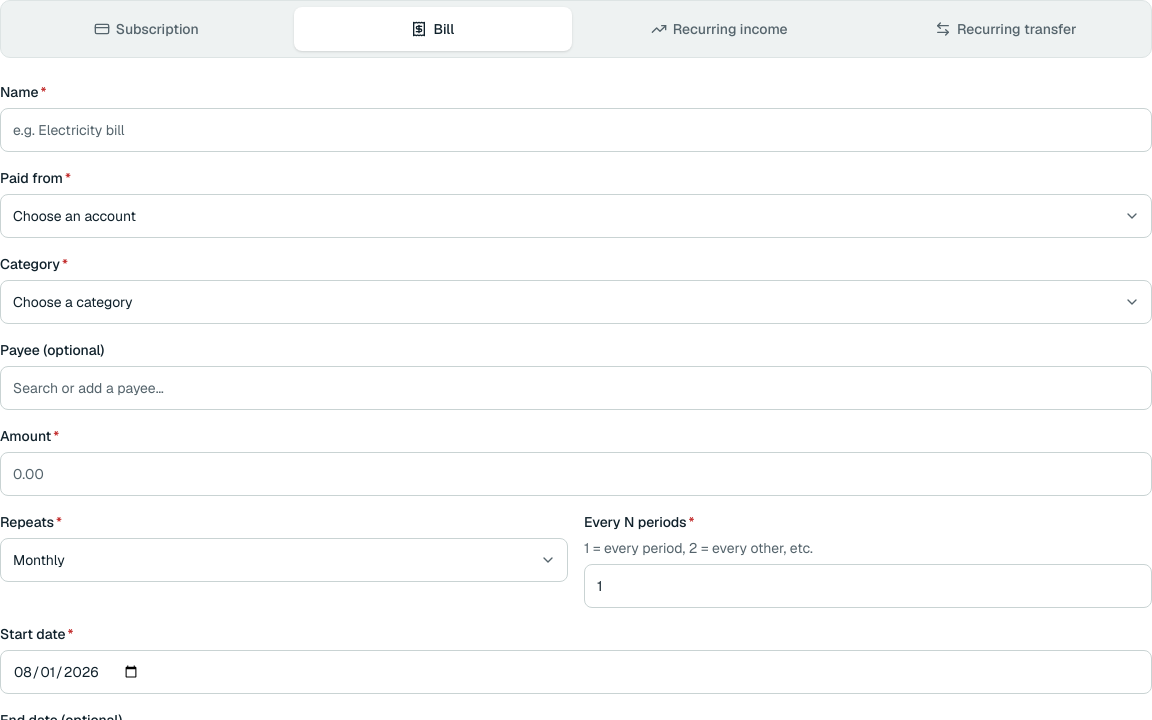
Test: RecurringItemForm › switches to the recurring transfer form, showing From/To account fields and no category field
This screenshot has width=1152, height=720.
Click the radio button labelled "Recurring transfer": click(1006, 29) [866,7,1145,51]
(page scrolled)
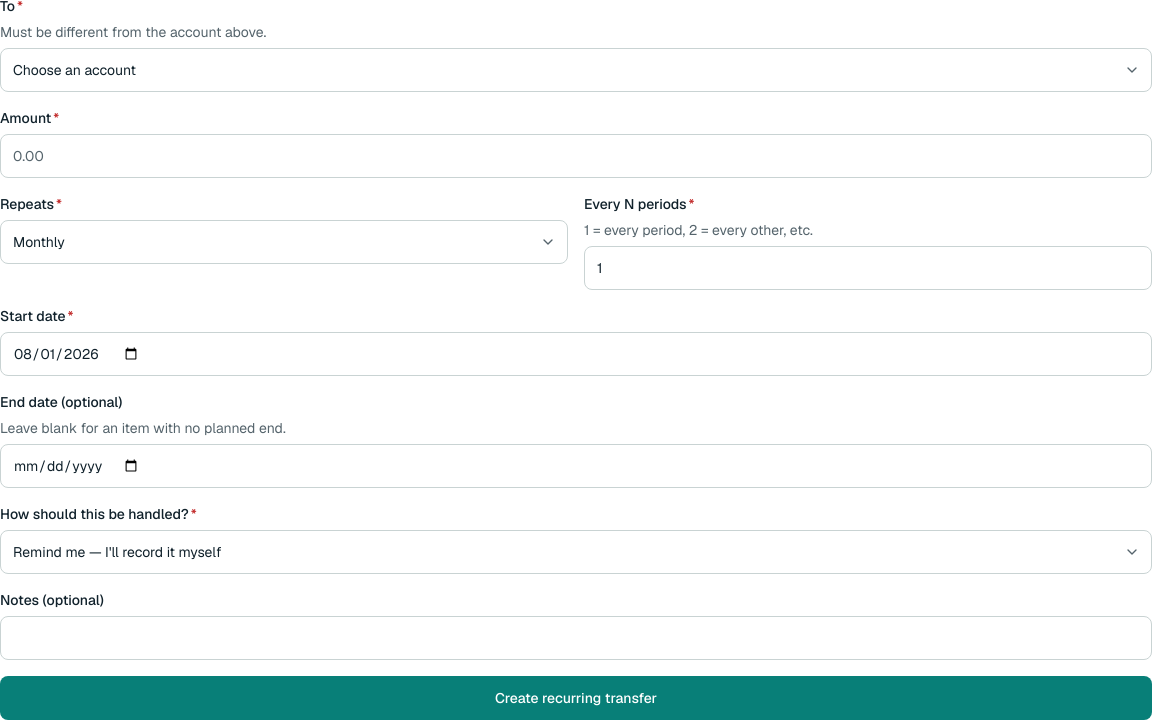
Expected: the dropdown labelled "To" is shown, [0,48,1151,92]
Expected: the label labelled "Category" is gone
Expected: the button "Create recurring transfer" is shown, [0,676,1151,719]
